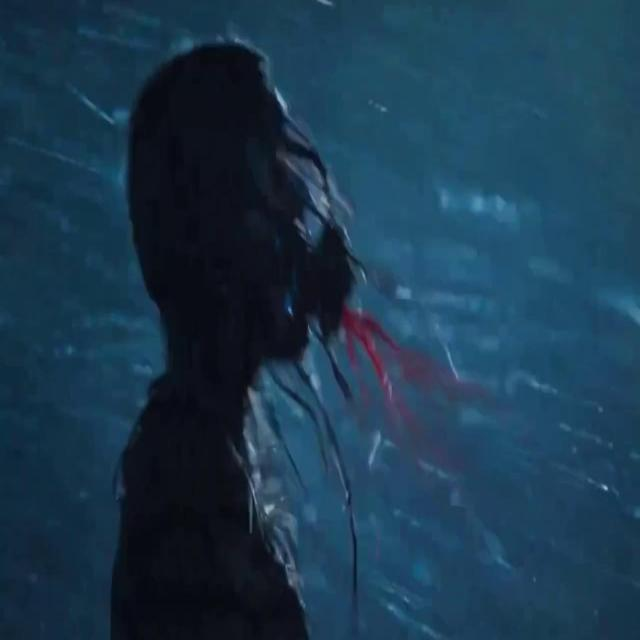flood: (318, 266, 472, 423)
